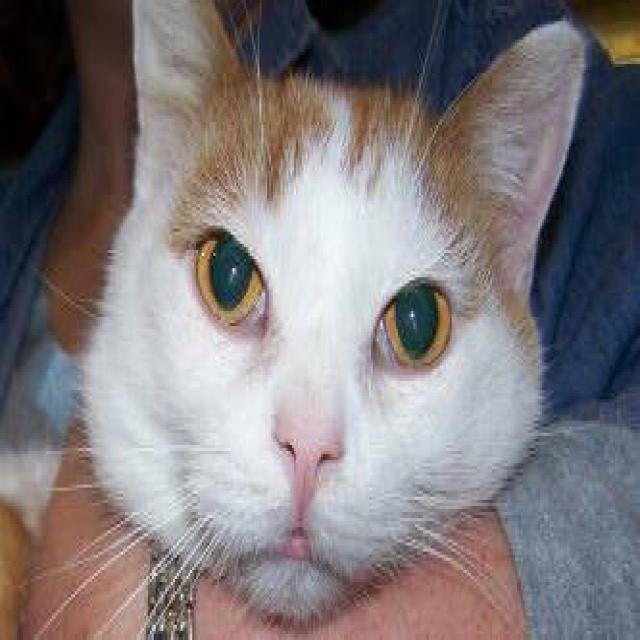cat: (16, 0, 586, 637)
